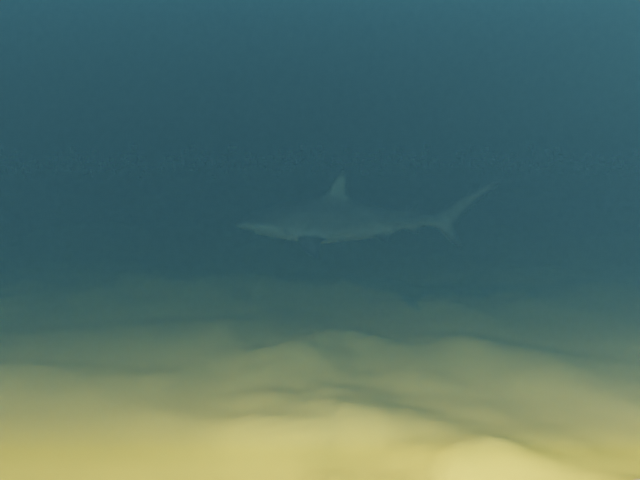Carribean Shark.001: (234, 170, 500, 258)
